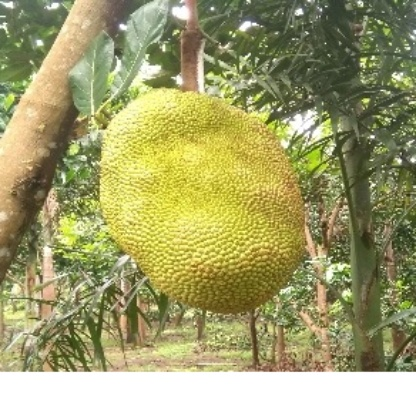mit: (92, 60, 312, 322)
